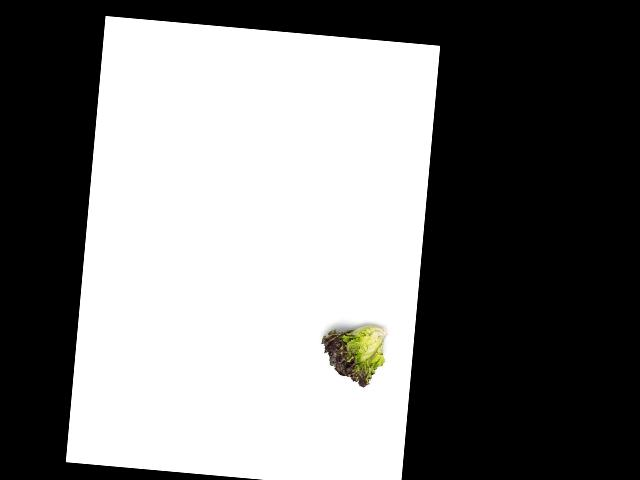lettuce: (313, 320, 390, 387)
